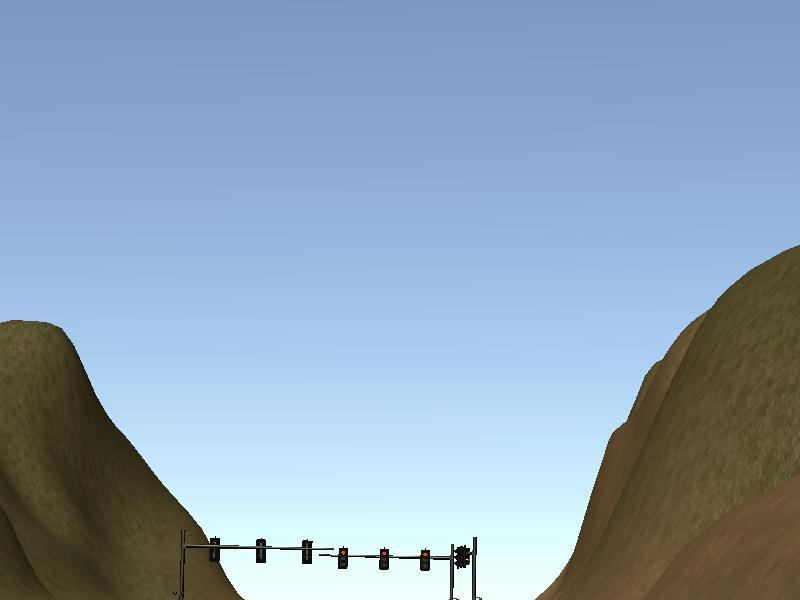Red: (337, 547, 348, 571), (419, 548, 430, 572), (379, 548, 389, 571)
